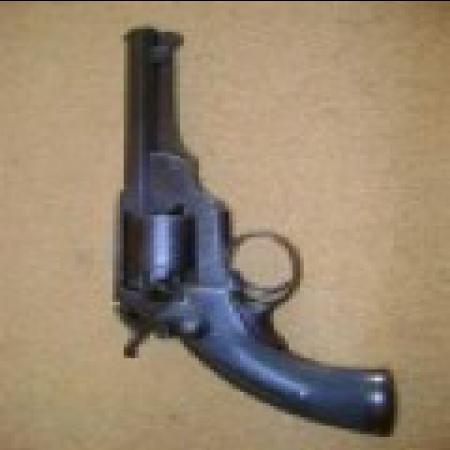Pistol: (102, 34, 394, 448)
